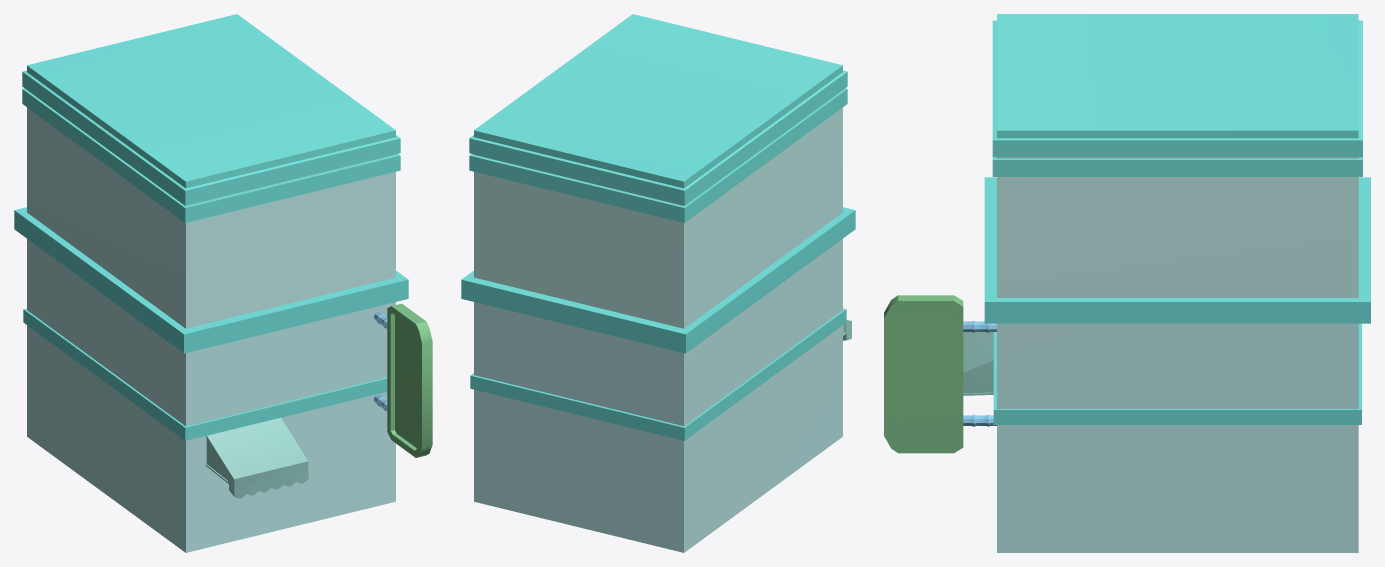
Rendered from Hotel_4.fbx.
The picture shows the model from 3 angles, left to right: view 1: azimuth 30°, elevation 25°; view 2: azimuth 150°, elevation 25°; view 3: azimuth 270°, elevation 25°; orthographic projection. The views are drawn at different scales.
Parts seen in each view (by area): view 1: Predio, PlacaHotel, Marquise; view 2: Predio; view 3: Predio, PlacaHotel, Marquise.
Part boxes in pixels (bbox=[...]): Predio: bbox=[14, 14, 408, 552]; PlacaHotel: bbox=[373, 303, 432, 457]; Marquise: bbox=[205, 417, 308, 498]; Predio: bbox=[461, 14, 855, 552]; Predio: bbox=[984, 14, 1370, 552]; PlacaHotel: bbox=[884, 295, 996, 453]; Marquise: bbox=[963, 332, 993, 395].
Size of the model in its own units: 351 by 554 by 579.
